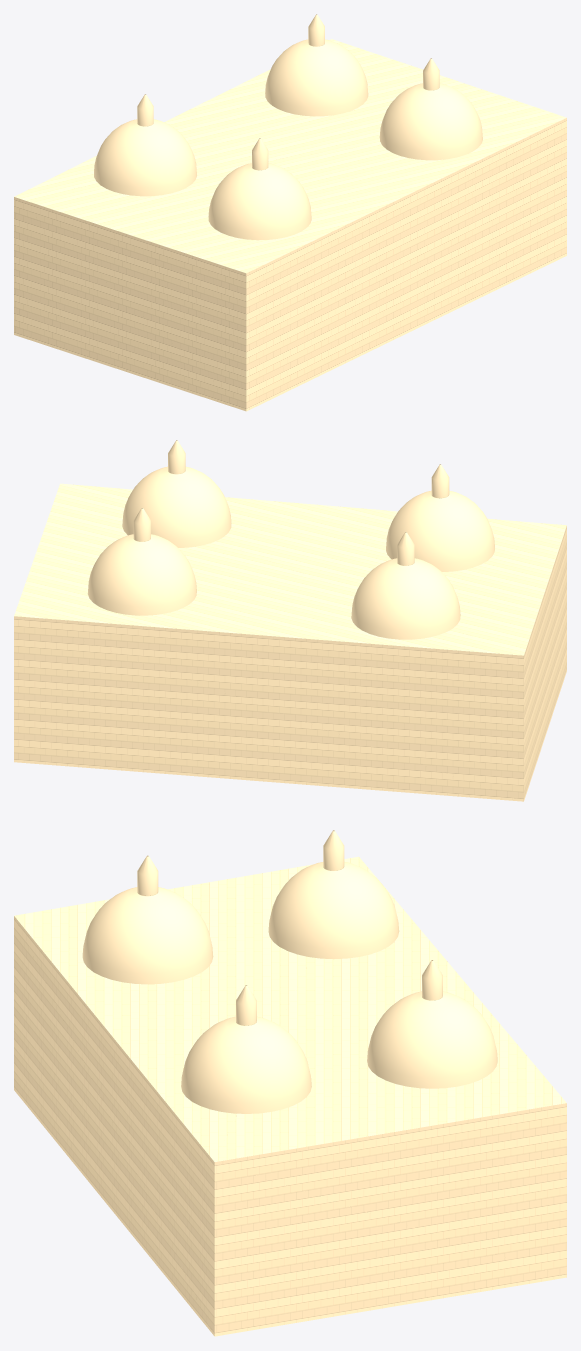
The model's file is landmark-taza-bey-hamam.glb.
The picture shows the model from 3 angles, top to bottom: view 1: azimuth 30°, elevation 25°; view 2: azimuth 150°, elevation 25°; view 3: azimuth 270°, elevation 25°; orthographic projection. The views are drawn at different scales.
Parts seen in each view (by area): view 1: taza-bey-hamam; view 2: taza-bey-hamam; view 3: taza-bey-hamam.
Part boxes in pixels (box(x1,y1,x2,y2)): taza-bey-hamam: box(14, 14, 566, 411); taza-bey-hamam: box(14, 440, 566, 801); taza-bey-hamam: box(14, 830, 566, 1336).
Bounding box in the file's own units: 32.9 × 13.81 × 25.16.
2 materials, 1 textured.
